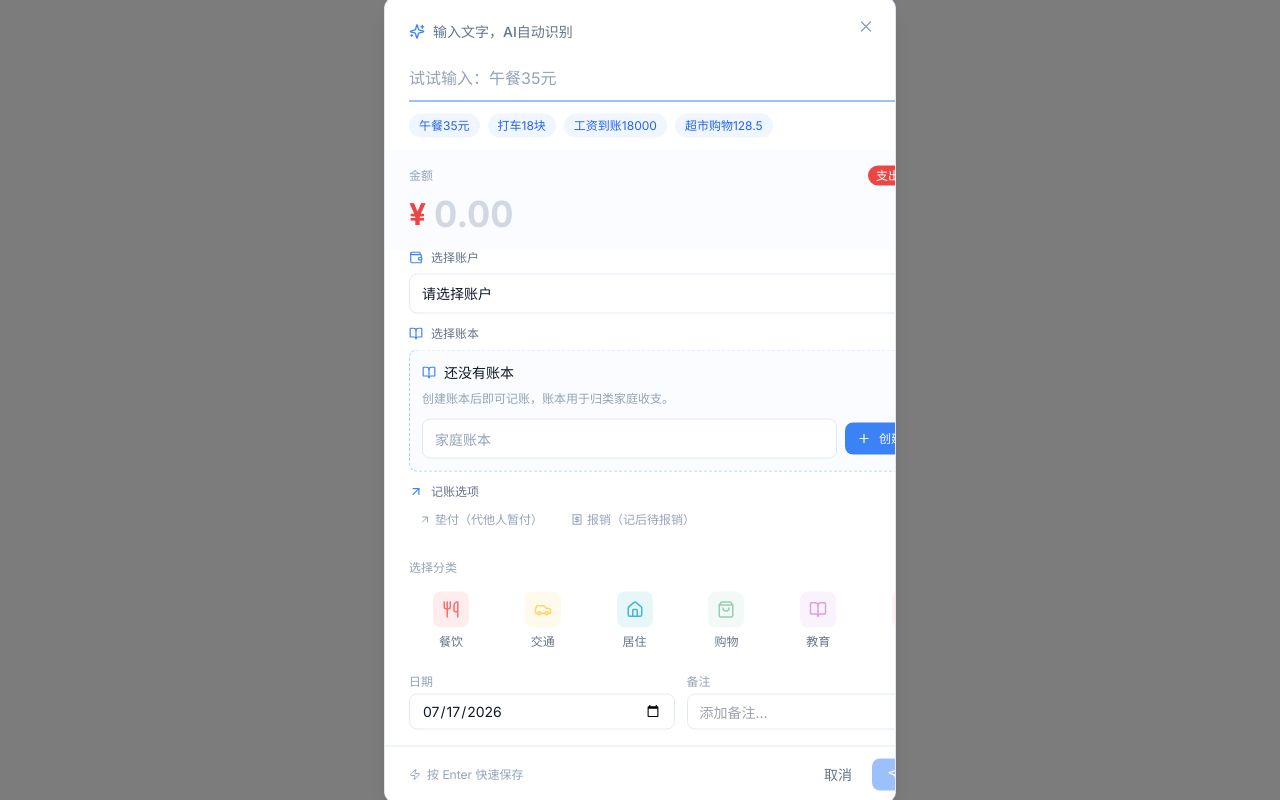
it: QuickRecordModal - 无账本时弹窗内新建账本（Bug A 修复） › ② 触发 handleCreateLedger：新建账本被加入列表、ledgerId 被选中，且不再出现死路文案
This screenshot has width=1280, height=800.
Expected: the text "还没有账本" is shown, x1=444 y1=362 x2=514 y2=382
输入账本名称并点击"创建账本"
Type "我的账本" into the field with placeholder "家庭账本".
click(630, 438); type("我的账本")  # box x1=422 y1=418 x2=837 y2=458
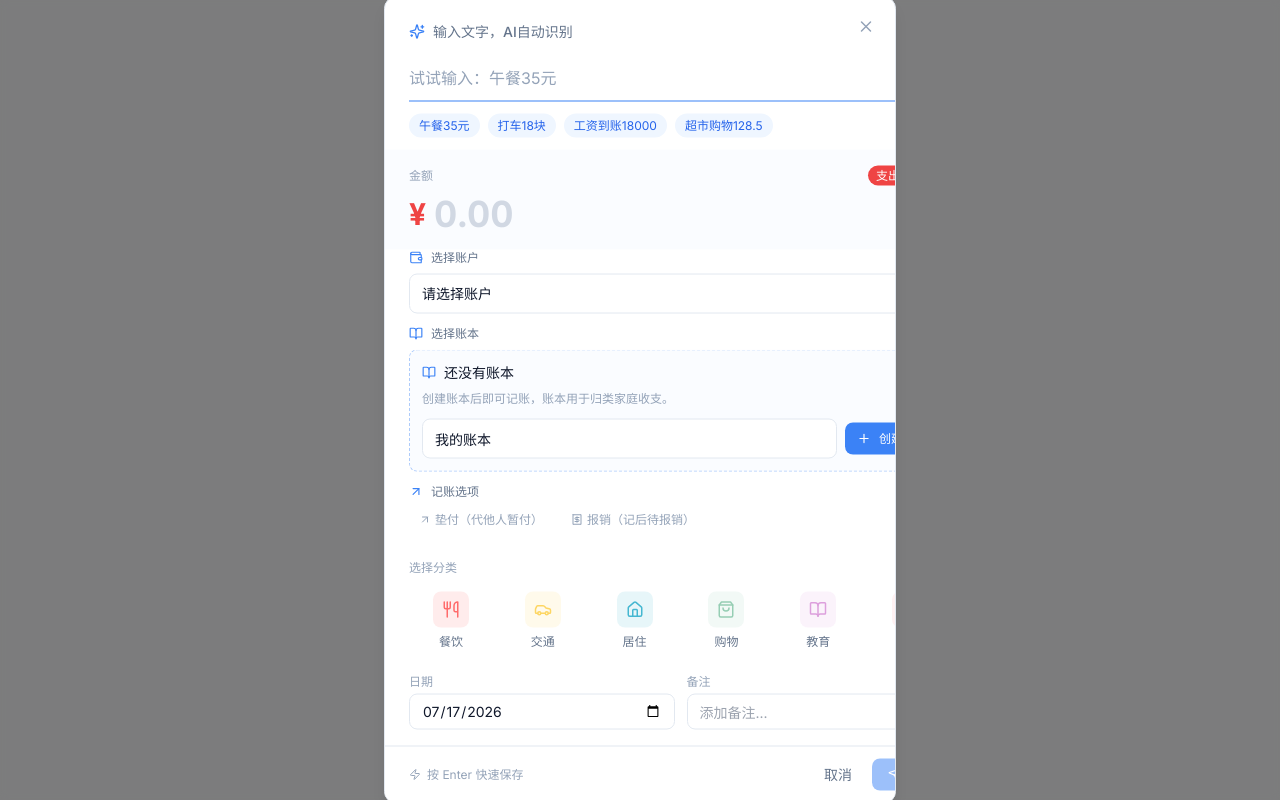
Click the button "创建账本".
click(892, 438)  # box x1=845 y1=422 x2=939 y2=454
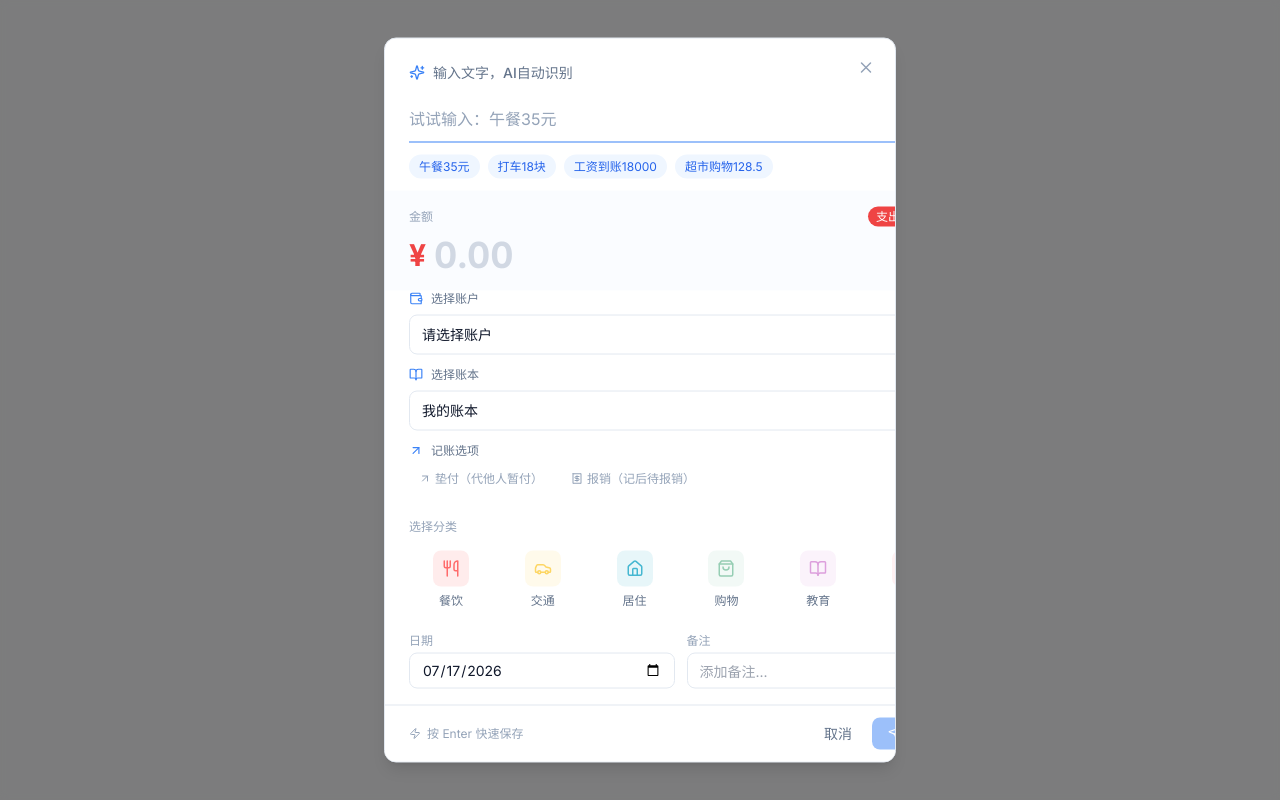
Now the text "我的账本" is shown, box x1=422 y1=400 x2=478 y2=420
Now the text "还没有账本" is gone
